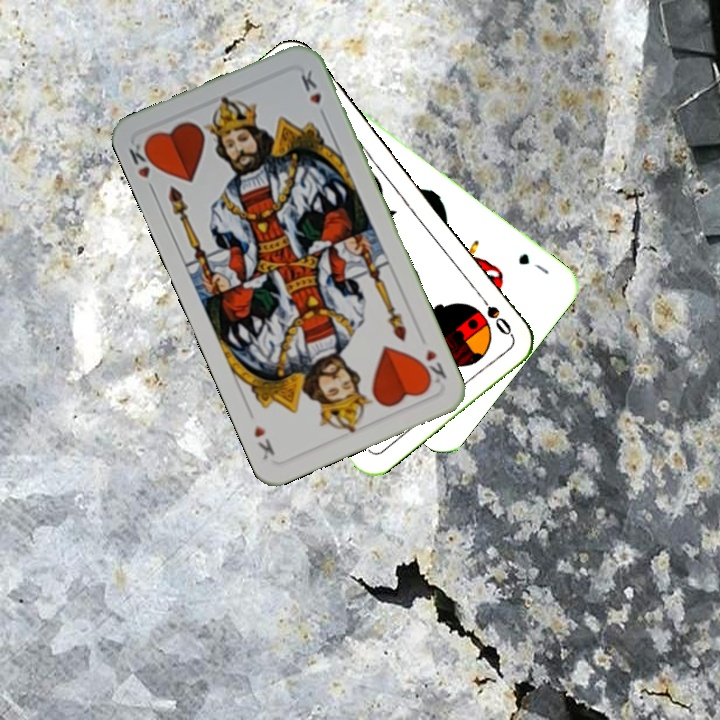GU: (514, 249, 552, 277)
HK: (124, 137, 160, 196), (415, 345, 450, 387)
SO: (473, 288, 515, 338)
